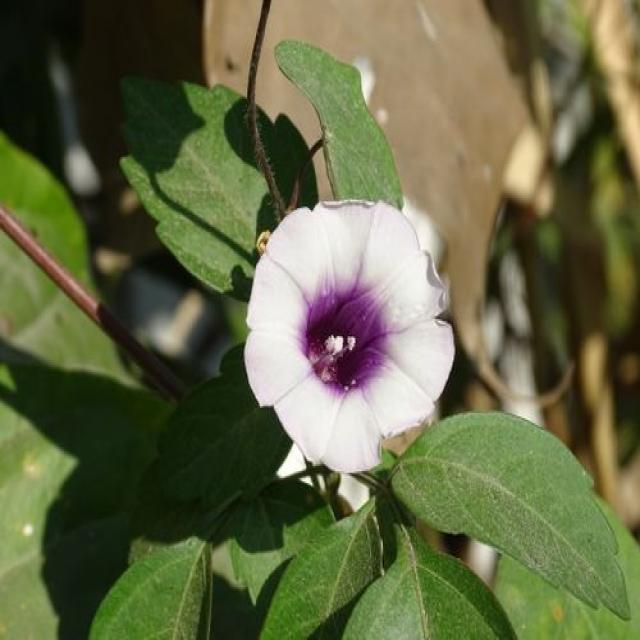ipomoea: (240, 195, 458, 480)
